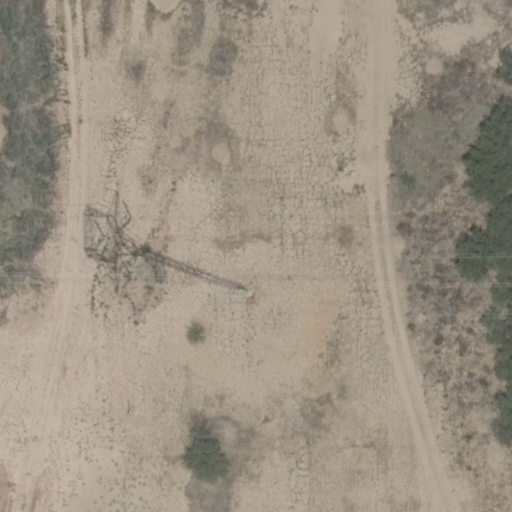TT: (82, 203, 134, 272)
